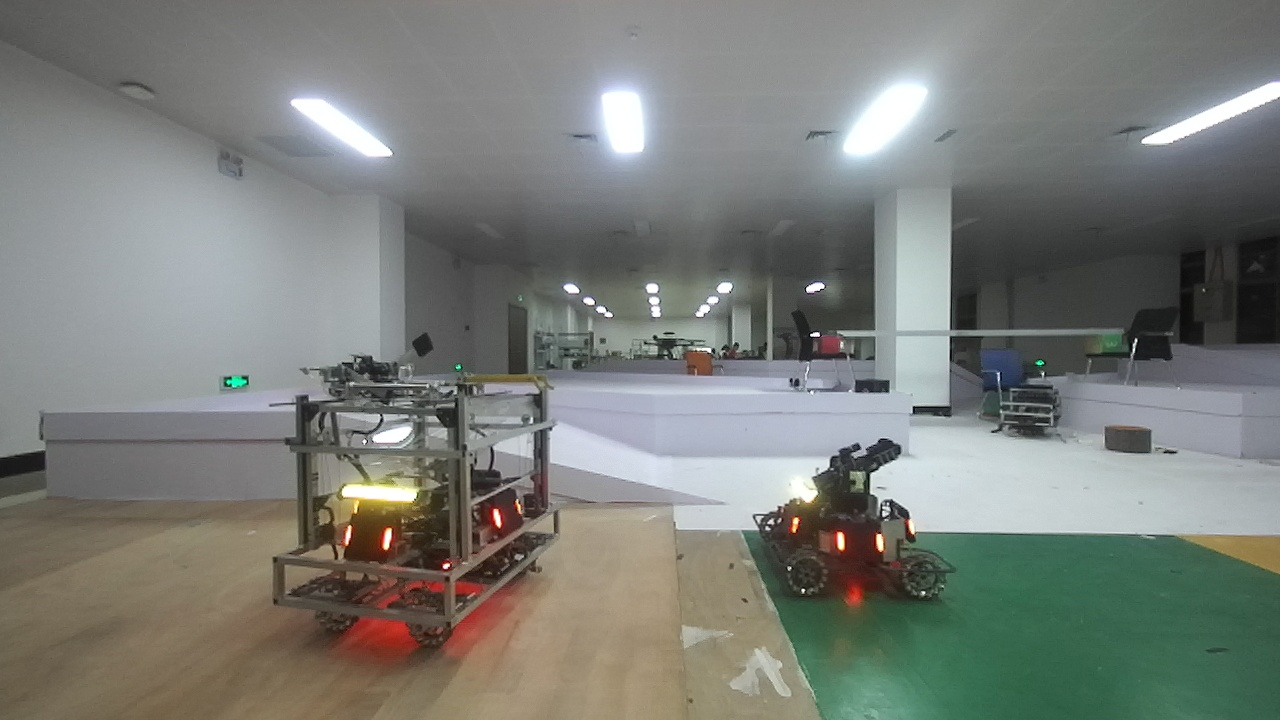car: (262, 366, 537, 641), (758, 427, 950, 619)
